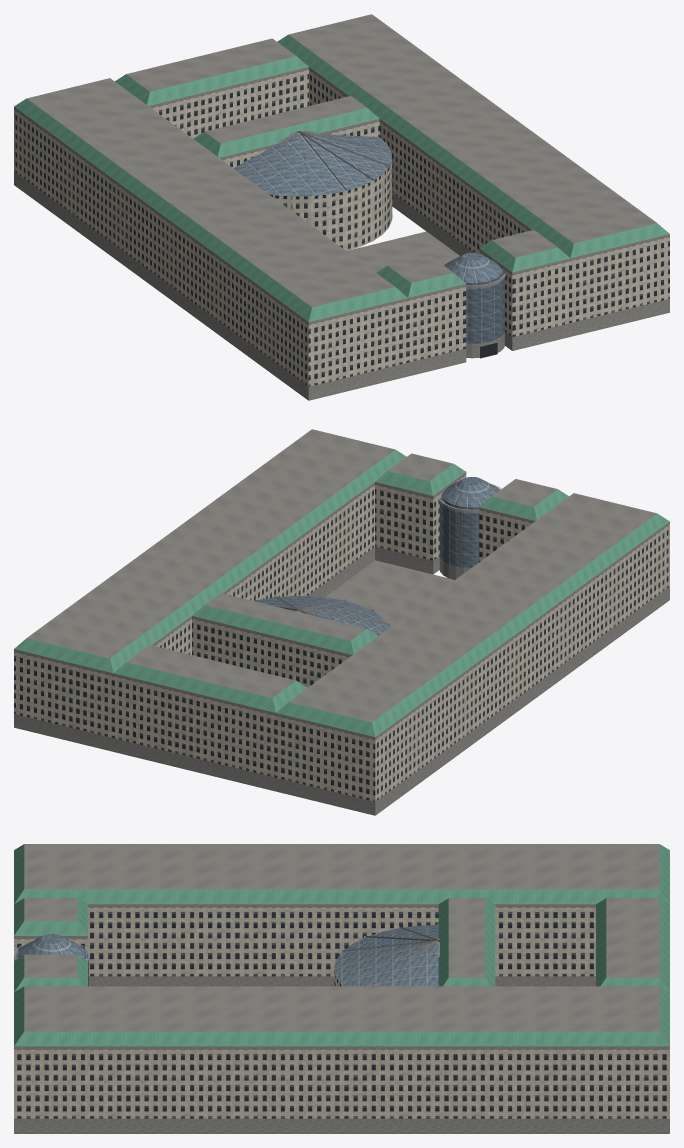
The model's file is reagan_building.glb.
The picture shows the model from 3 angles, top to bottom: view 1: azimuth 30°, elevation 25°; view 2: azimuth 150°, elevation 25°; view 3: azimuth 270°, elevation 25°; orthographic projection. The views are drawn at different scales.
Parts seen in each view (by area): view 1: reagan_building; view 2: reagan_building; view 3: reagan_building.
Part boxes in pixels (x1,y1,x2,y2): reagan_building: [14, 14, 669, 400]; reagan_building: [14, 429, 669, 815]; reagan_building: [14, 844, 669, 1133].
Size of the model in its own units: 164 by 38.1 by 231.
Materials: 6 (6 with a texture image).
